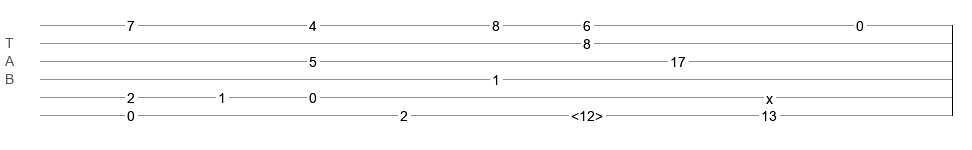0: (127, 108, 135, 118), (309, 90, 317, 100), (856, 18, 864, 28)
1: (218, 90, 226, 100), (492, 72, 500, 82)
13: (761, 108, 777, 118)
17: (670, 54, 686, 64)
2: (127, 90, 135, 100), (400, 108, 408, 118)
4: (309, 18, 317, 28)
5: (309, 54, 317, 64)
6: (583, 18, 591, 28)
7: (127, 18, 135, 28)
8: (492, 18, 500, 28), (583, 36, 591, 46)
harmonic: (571, 108, 603, 118)
x: (766, 91, 773, 99)
